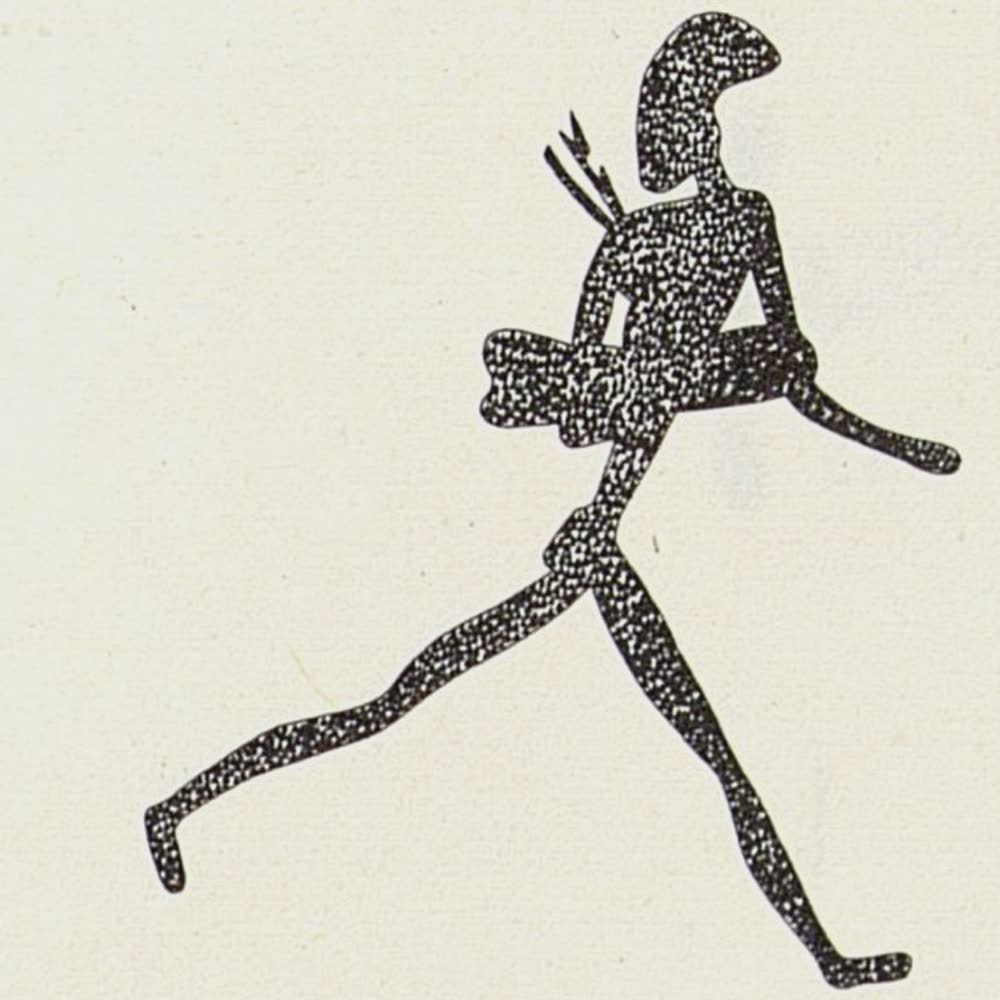man: (144, 8, 966, 992)
